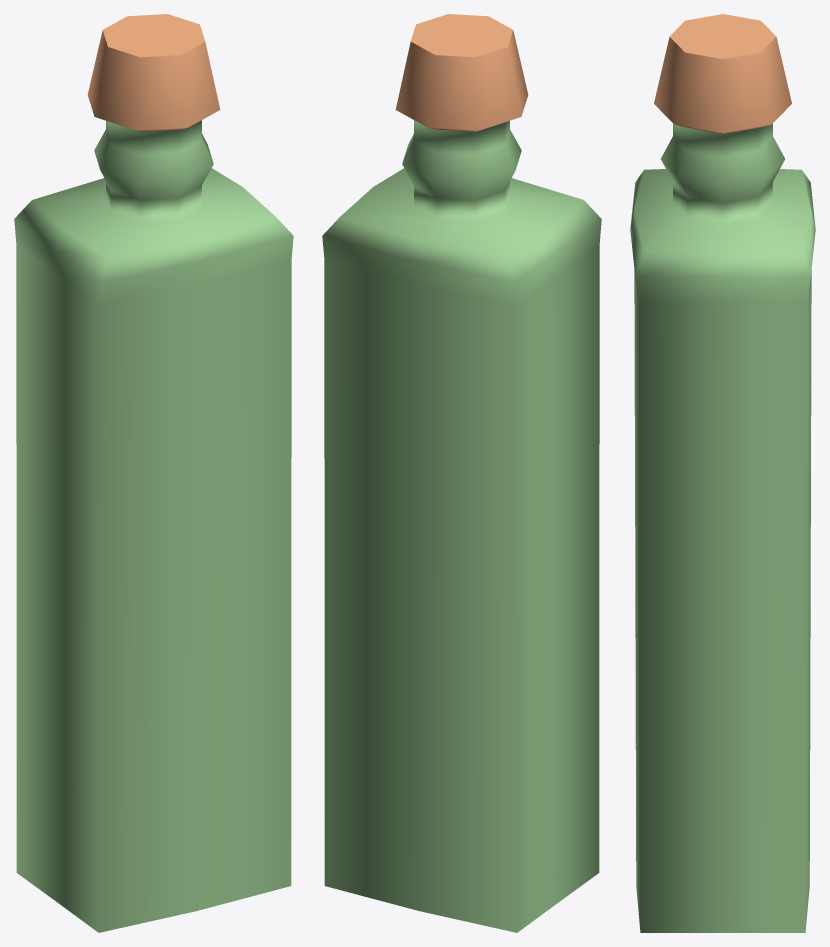
Rendered from BAR_LiqourBottle09_Body.fbx.
The picture shows the model from 3 angles, left to right: view 1: azimuth 30°, elevation 25°; view 2: azimuth 150°, elevation 25°; view 3: azimuth 270°, elevation 25°; orthographic projection.
Visible parts, largest first — view 1: Bottle09_Body; view 2: Bottle09_Body; view 3: Bottle09_Body.
Boxes of the visible parts, box(x1,y1,x2,y2) form: Bottle09_Body: box(14, 14, 293, 932); Bottle09_Body: box(322, 14, 601, 932); Bottle09_Body: box(630, 14, 815, 932).
Size of the model in its own units: 6.13 by 25.47 by 5.04.
